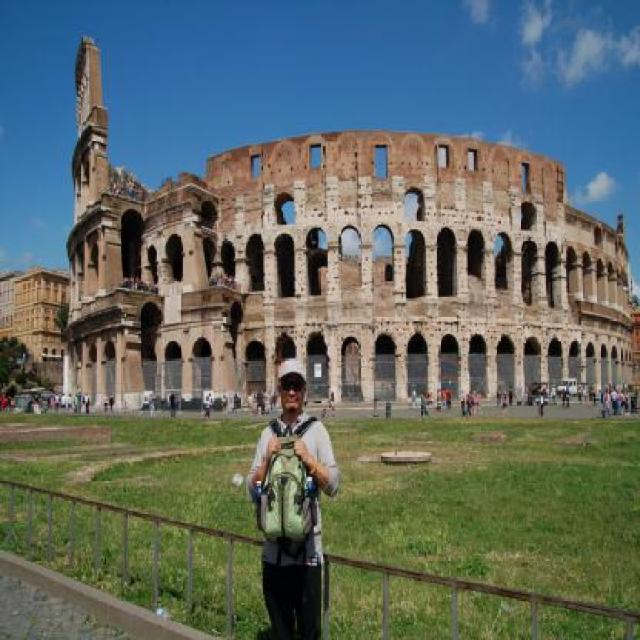Person: (255, 360, 334, 638), (71, 387, 87, 421), (418, 388, 434, 420), (537, 388, 545, 419), (409, 382, 418, 407), (169, 391, 177, 418), (565, 383, 572, 411), (598, 386, 605, 414), (609, 386, 617, 409), (232, 392, 240, 414), (494, 384, 501, 408), (602, 388, 609, 412), (149, 390, 156, 413), (475, 394, 483, 414), (460, 388, 466, 414), (56, 388, 64, 406), (436, 388, 442, 412), (576, 384, 584, 402), (591, 384, 597, 408), (204, 394, 210, 417), (66, 389, 72, 411), (502, 393, 508, 415), (272, 391, 278, 412), (508, 385, 514, 406), (260, 388, 265, 412), (473, 389, 478, 413), (550, 383, 556, 402), (465, 393, 470, 415), (446, 388, 451, 408), (618, 394, 624, 408), (104, 394, 108, 412), (561, 388, 565, 404), (222, 393, 225, 412), (49, 396, 54, 407), (111, 394, 114, 409), (442, 388, 444, 406)
